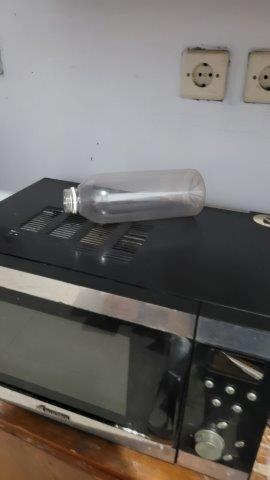botolplastik: (59, 169, 209, 225)
